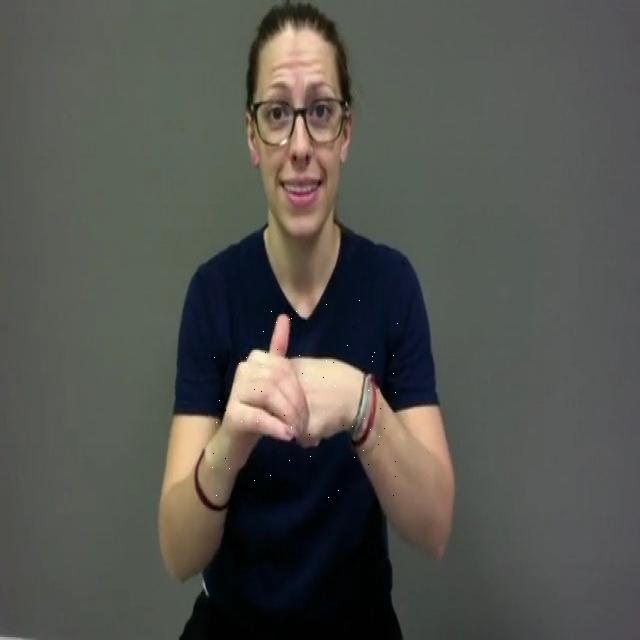bread: (208, 300, 398, 498)
